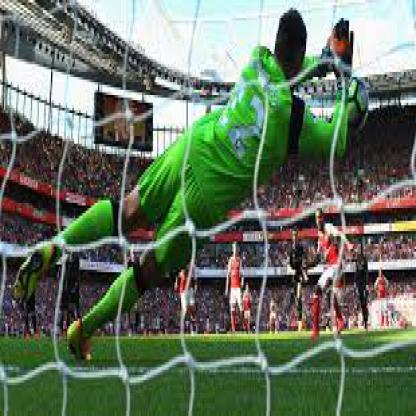goal: (133, 4, 386, 245)
